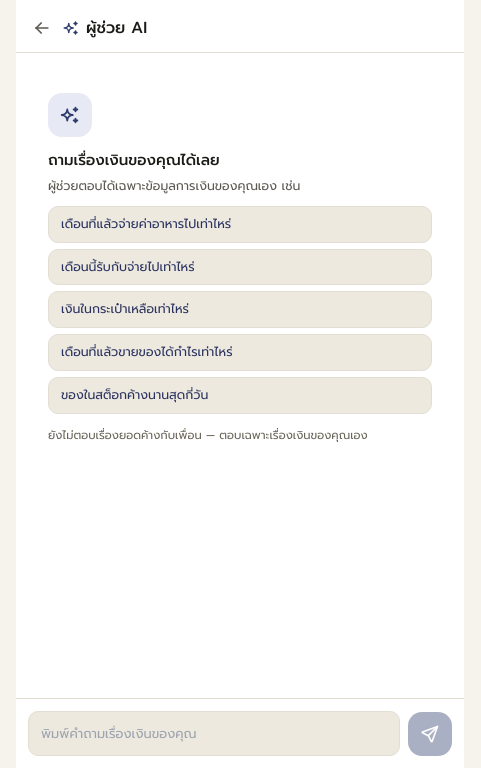
Scenario: errors reach the user › a failed send surfaces the Worker Thai line (mapped by errors.ts) as an alert
The width and height of the screenshot is (481, 768).
Type "q" into the text box labelled "พิมพ์คำถาม" at [214, 733], box [28,710,400,756]
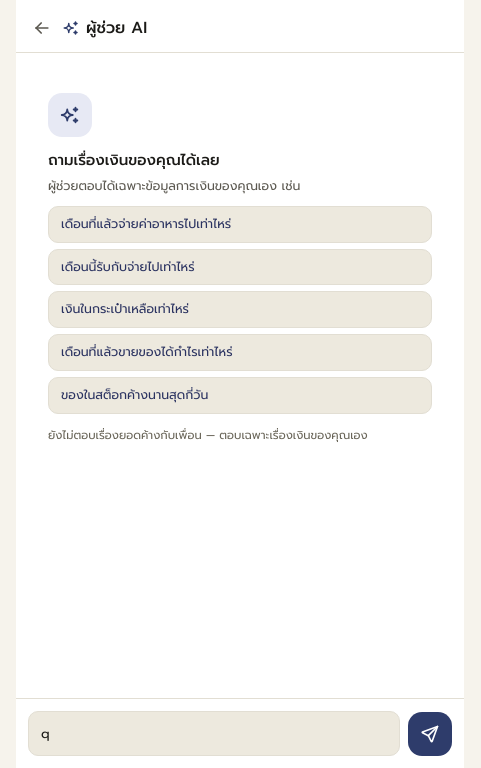
Click the button named "ส่งคำถาม" at [430, 734], box [408,712,452,756]
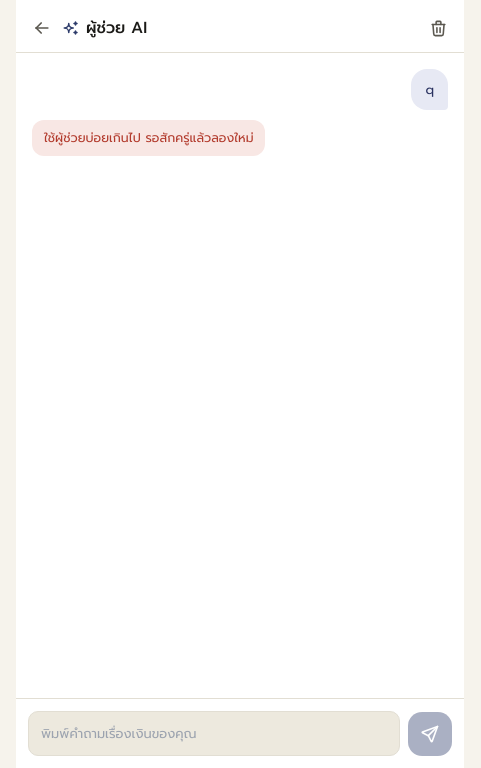
Result: the message reads "ใช้ผู้ช่วยบ่อยเกินไป รอสักครู่แล้วลองใหม่" at [44,128,254,147]
Result: the text "q" is shown at [411,69,448,110]
